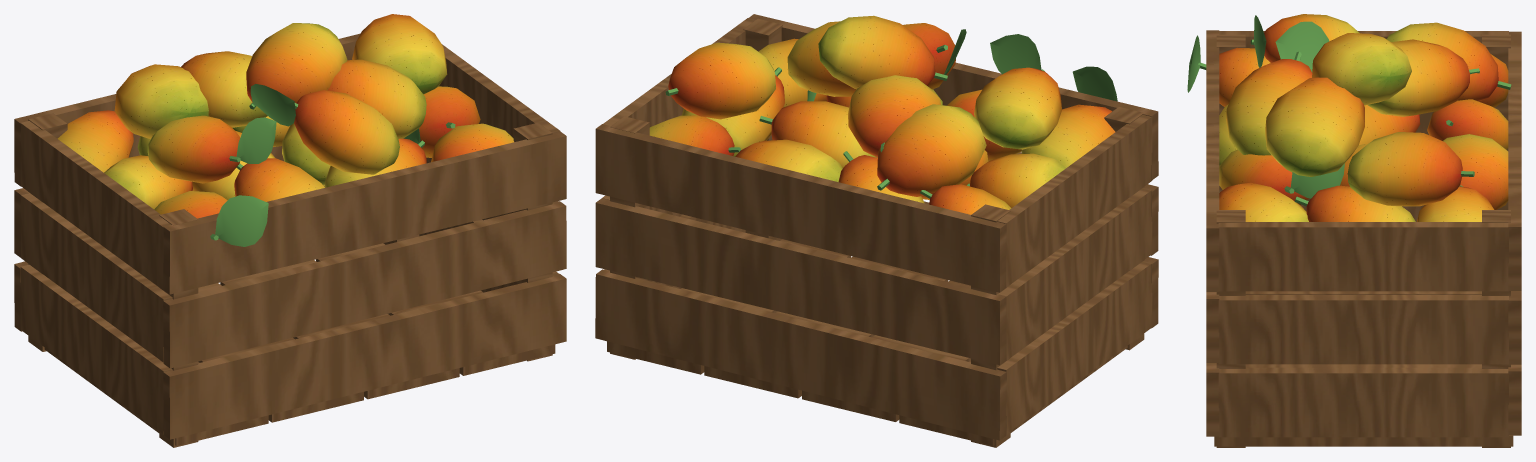
Rendered from mango_crate.glb.
3 views of the same model, side by side, from view 1: azimuth 30°, elevation 25°; view 2: azimuth 150°, elevation 25°; view 3: azimuth 270°, elevation 25° (orthographic).
Parts seen in each view (by area): view 1: MangoCrate; view 2: MangoCrate; view 3: MangoCrate.
Part boxes in pixels (x1,y1,x2,y2): MangoCrate: (14,14,566,447); MangoCrate: (595,14,1158,447); MangoCrate: (1187,14,1521,447).
Size of the model in its own units: 0.5607 by 0.4259 by 0.4025.
3 materials, 2 textured.
